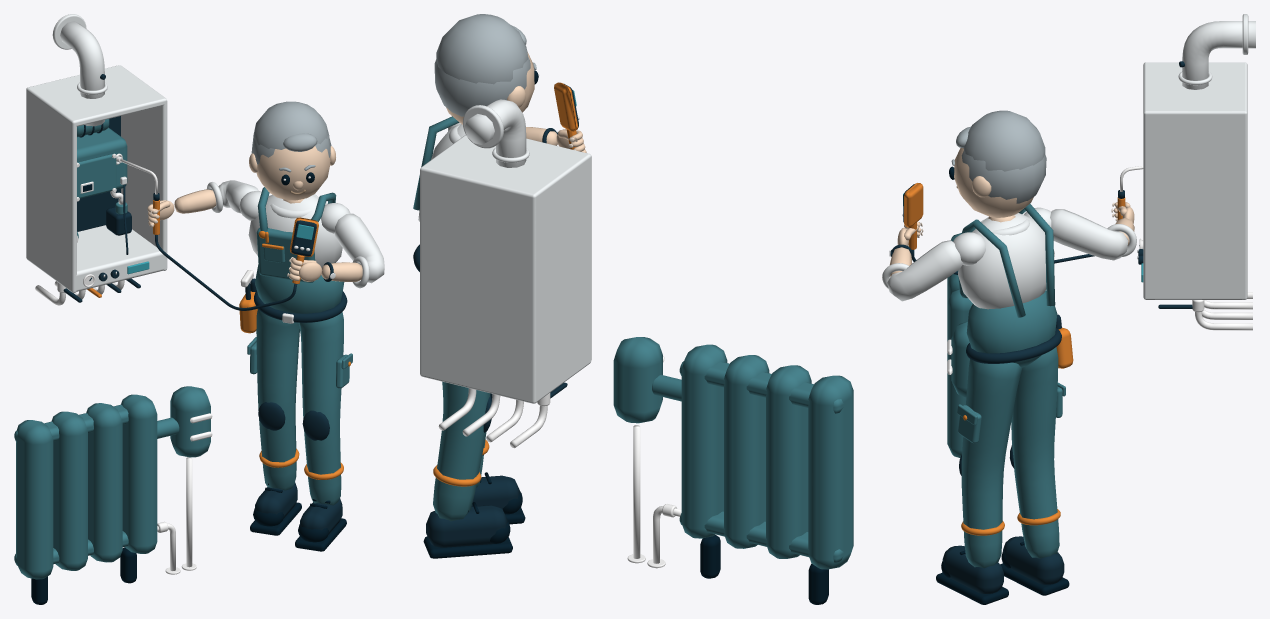
The model's file is bild-3.glb.
3 views of the same model, side by side, from view 1: azimuth 30°, elevation 25°; view 2: azimuth 150°, elevation 25°; view 3: azimuth 270°, elevation 25° (orthographic). The views are drawn at different scales.
Visible parts, largest first — view 1: Brennertuer, Abgasmuffe, FachkraftBauch, Abgasmessloch, FachkraftArm1, Fachkraft1Daumen, FachkraftBraue1, Fachkraft1Schnur0, Anschluss0, FachkraftKnopf1; view 2: Abgasmuffe, Brennertuer, FachkraftBraue1, FachkraftBauch, Abgasmessloch, Anschluss0, Fachkraft1Schnur0, Fachkraft1Daumen, FachkraftKnopf1; view 3: Abgasmuffe, FachkraftBauch, FachkraftArm1, FachkraftBraue1, Abgasmessloch, Brennertuer, Fachkraft1Daumen, FachkraftKnopf1, Fachkraft1Schnur0, Anschluss0.
Part boxes in pixels (<box>): Brennertuer: <box>14,119,210,579</box>; Abgasmuffe: <box>26,14,310,292</box>; FachkraftBauch: <box>247,187,352,505</box>; Abgasmessloch: <box>63,74,347,534</box>; FachkraftArm1: <box>207,180,384,288</box>; Fachkraft1Daumen: <box>147,146,362,281</box>; FachkraftBraue1: <box>251,101,331,172</box>; Fachkraft1Schnur0: <box>31,184,346,604</box>; Anschluss0: <box>35,153,196,574</box>; FachkraftKnopf1: <box>87,200,350,479</box>; Abgasmuffe: <box>420,99,591,403</box>; Brennertuer: <box>613,337,853,569</box>; FachkraftBraue1: <box>434,14,536,116</box>; FachkraftBauch: <box>413,116,490,521</box>; Abgasmessloch: <box>413,84,578,547</box>; Anschluss0: <box>438,388,681,568</box>; Fachkraft1Schnur0: <box>423,472,828,604</box>; Fachkraft1Daumen: <box>446,52,586,152</box>; FachkraftKnopf1: <box>433,82,577,486</box>; Abgasmuffe: <box>902,14,1255,299</box>; FachkraftBauch: <box>957,203,1065,568</box>; FachkraftArm1: <box>882,207,1136,309</box>; FachkraftBraue1: <box>951,110,1046,203</box>; Abgasmessloch: <box>890,61,1192,593</box>; Brennertuer: <box>947,233,972,457</box>; Fachkraft1Daumen: <box>889,148,1134,276</box>; FachkraftKnopf1: <box>904,183,1125,535</box>; Fachkraft1Schnur0: <box>936,541,1069,604</box>; Anschluss0: <box>1120,166,1252,330</box>.
Size of the model in its own units: 1.55 by 2.04 by 1.36.
